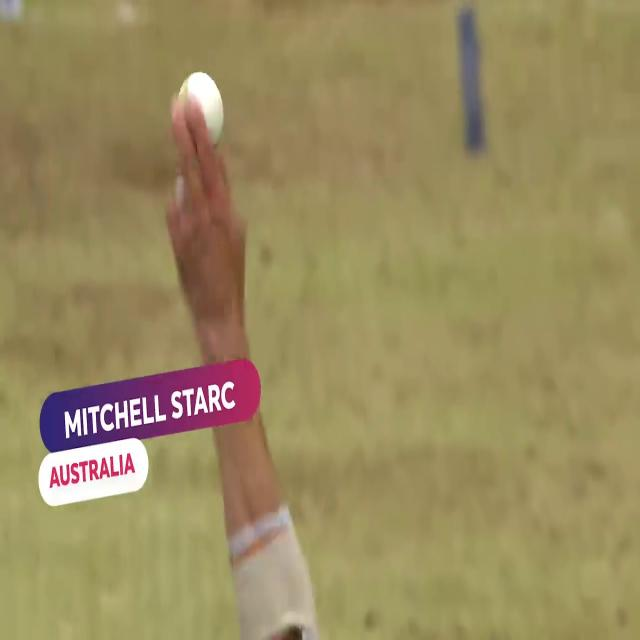ball: (148, 56, 274, 276)
